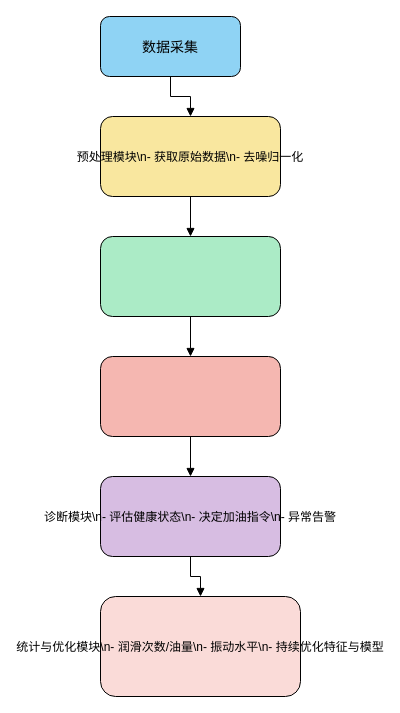
Some shapes in this 400 by 713 pixel diagram are drawn without their labels. The centre of each missing label's shape, as x and y in pixels:
数据存储\n- 测点信息\n- 特征值历史\n- 健康状态: (190,396)
特征提取\n- 时域特征\n- 频域特征\n- 包络谱等: (190,276)
